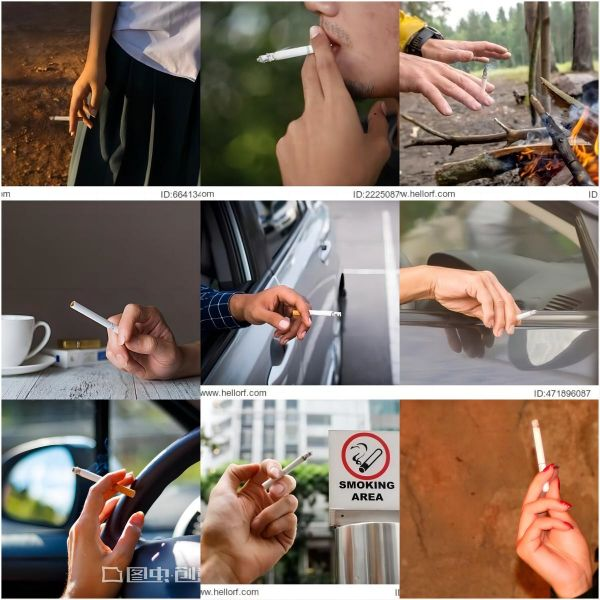smoke: (260, 449, 317, 493), (71, 465, 139, 501), (69, 301, 121, 335), (531, 419, 552, 494), (256, 44, 317, 67), (292, 308, 344, 318), (479, 64, 491, 98), (515, 310, 542, 322), (51, 115, 86, 122)
